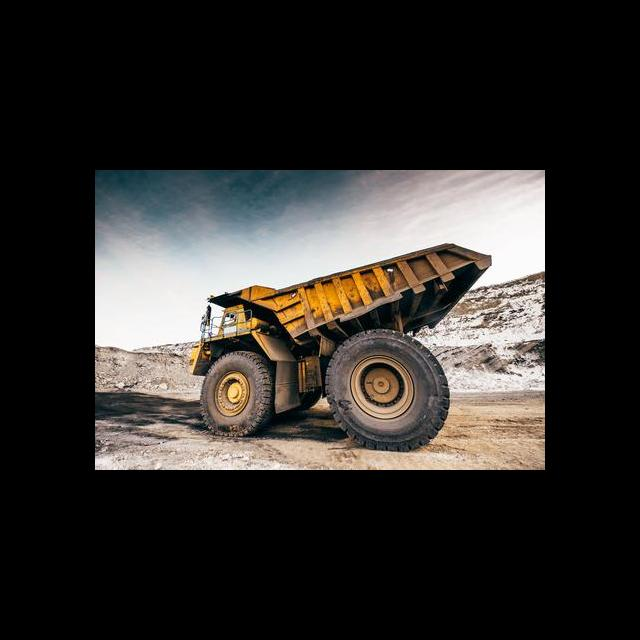dump truck: (183, 238, 496, 456)
